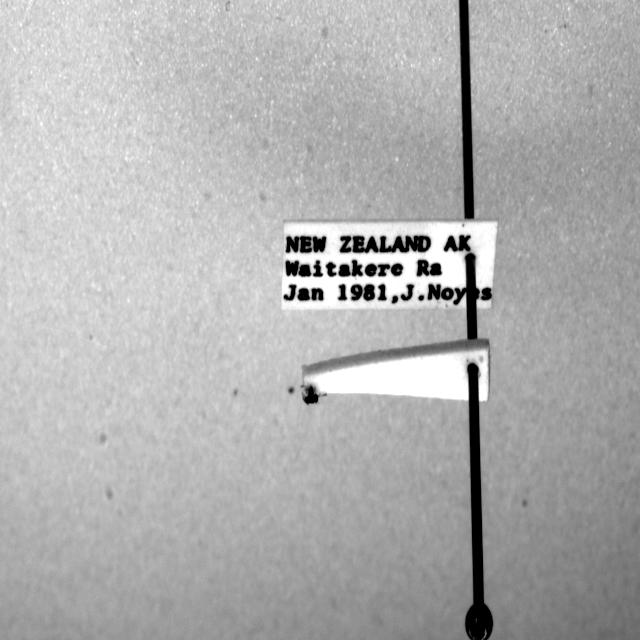typed_label: (281, 219, 498, 309)
